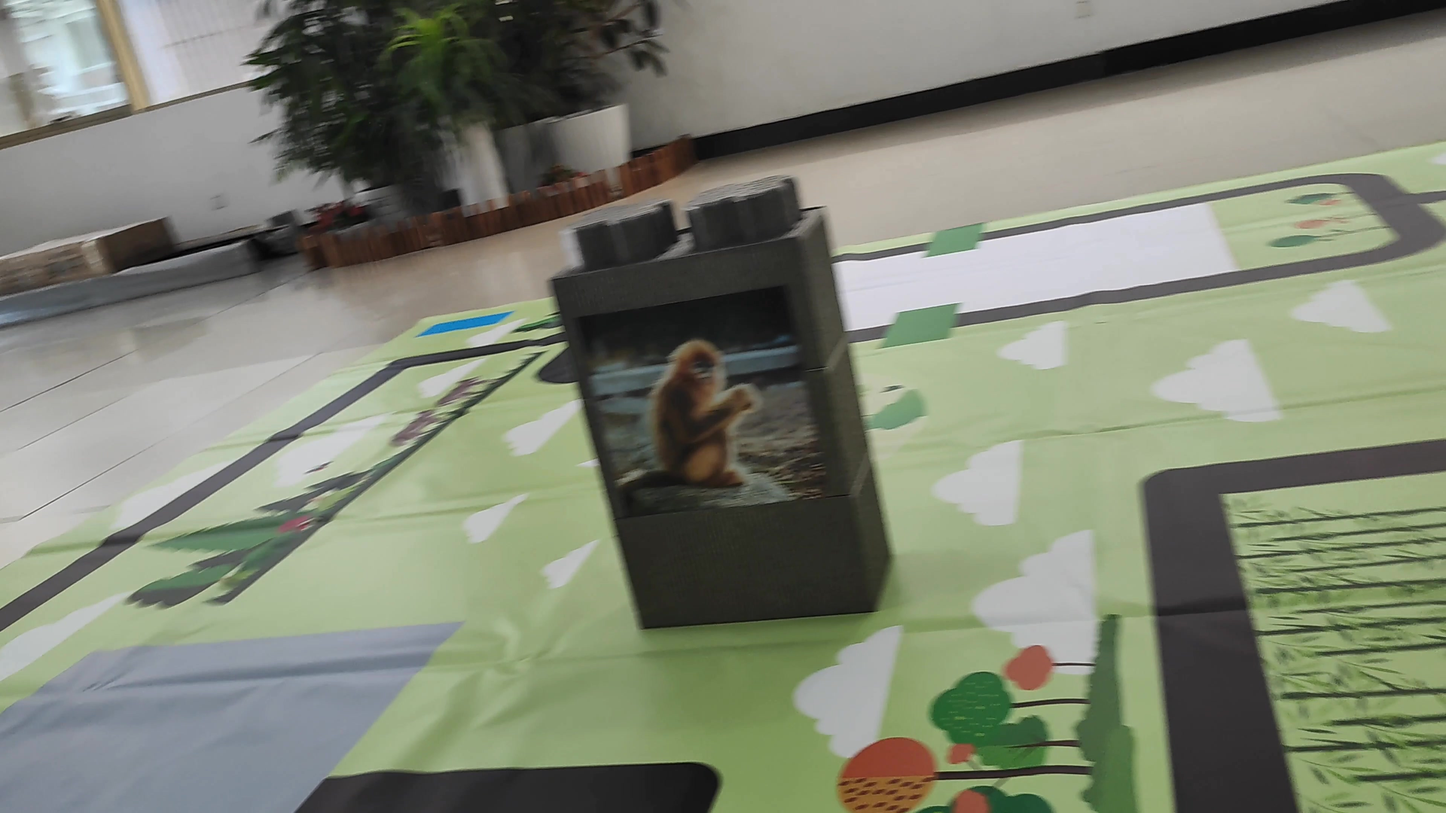monkey: (588, 285, 812, 524)
